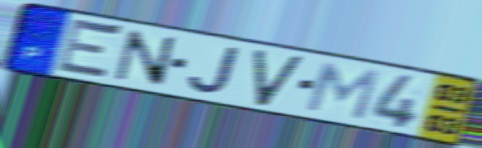4: (371, 73, 419, 130)
E: (52, 15, 127, 83)
J: (186, 46, 244, 96)
M: (302, 60, 383, 122)
N: (112, 27, 178, 89)
V: (252, 48, 306, 108)
